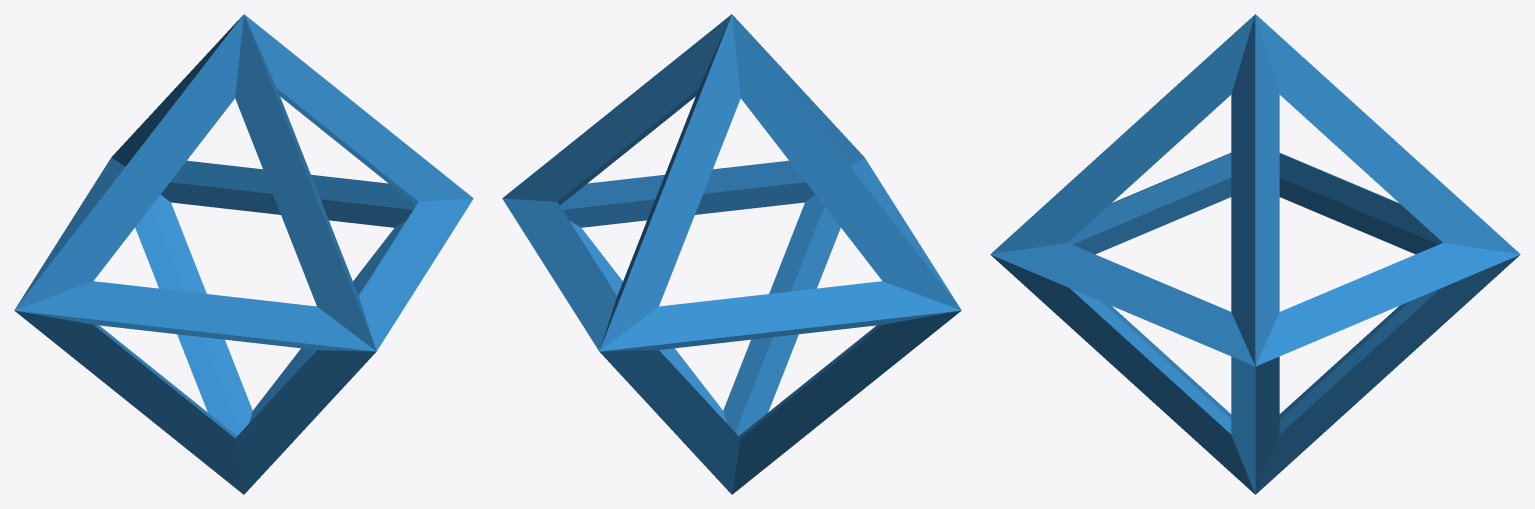
The model's file is octohedron.fbx.
3 views of the same model, side by side, from view 1: azimuth 30°, elevation 25°; view 2: azimuth 150°, elevation 25°; view 3: azimuth 270°, elevation 25° (orthographic).
Parts seen in each view (by area): view 1: Solid; view 2: Solid; view 3: Solid.
Part boxes in pixels (left/top/right/bottom): Solid: left=14, top=14, right=473, bottom=494; Solid: left=502, top=14, right=961, bottom=494; Solid: left=990, top=14, right=1520, bottom=494.
Bounding box in the file's own units: 2.25 × 2.25 × 2.25.
